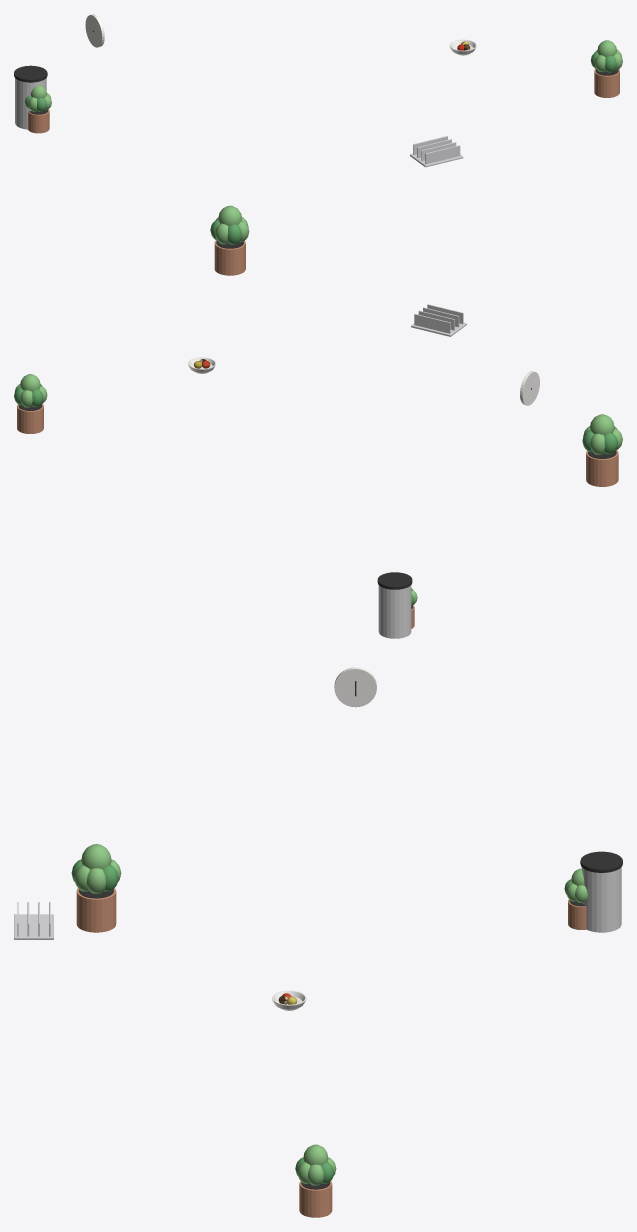
The model's file is Decor.fbx.
The picture shows the model from 3 angles, top to bottom: view 1: azimuth 30°, elevation 25°; view 2: azimuth 150°, elevation 25°; view 3: azimuth 270°, elevation 25°; orthographic projection. The views are drawn at different scales.
Parts seen in each view (by area): view 1: PlantCornerLeft_Pot, TrashBin, PlantCornerRight_Pot, WallClock, TrashBinLid, PlantDining_Pot, DishRackBar, PlantCornerLeft_Crown; view 2: TrashBin, PlantCornerLeft_Pot, PlantCornerRight_Pot, WallClock, TrashBinLid; view 3: TrashBin, PlantCornerLeft_Pot, WallClock, PlantCornerRight_Pot, DishRackBase, TrashBinLid.
Boxes of the visible parts, x1,y1,x2,y2 form: PlantCornerLeft_Pot: (214, 240, 245, 275); TrashBin: (15, 78, 46, 129); PlantCornerRight_Pot: (594, 69, 619, 97); WallClock: (85, 14, 104, 47); TrashBinLid: (14, 65, 47, 82); PlantDining_Pot: (28, 109, 49, 133); DishRackBar: (425, 145, 460, 164); PlantCornerLeft_Crown: (218, 205, 241, 225); TrashBin: (378, 585, 411, 638); PlantCornerLeft_Pot: (586, 450, 618, 486); PlantCornerRight_Pot: (17, 404, 43, 433); WallClock: (520, 371, 539, 405); TrashBinLid: (377, 572, 412, 589); TrashBin: (581, 867, 621, 932); PlantCornerLeft_Pot: (76, 888, 116, 932); WallClock: (334, 667, 376, 707); PlantCornerRight_Pot: (299, 1181, 332, 1217); DishRackBase: (14, 914, 53, 939); TrashBinLid: (580, 851, 622, 872).
Size of the model in its own units: 5.64 by 1.96 by 4.58.
